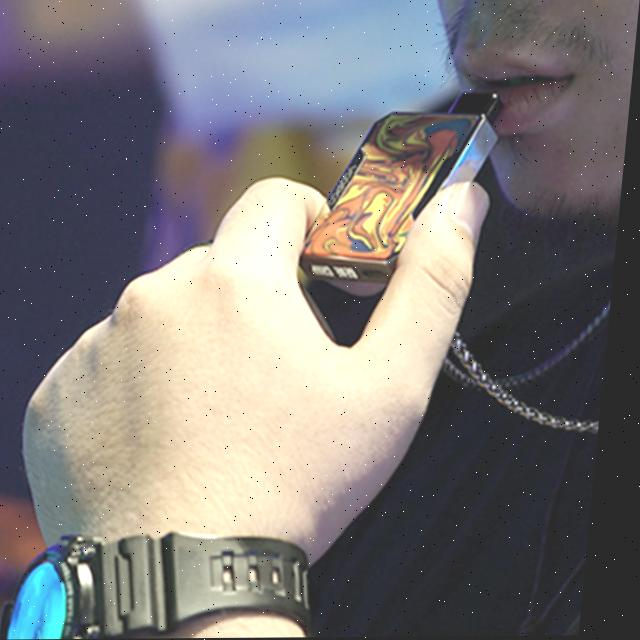vape: (302, 90, 511, 285)
